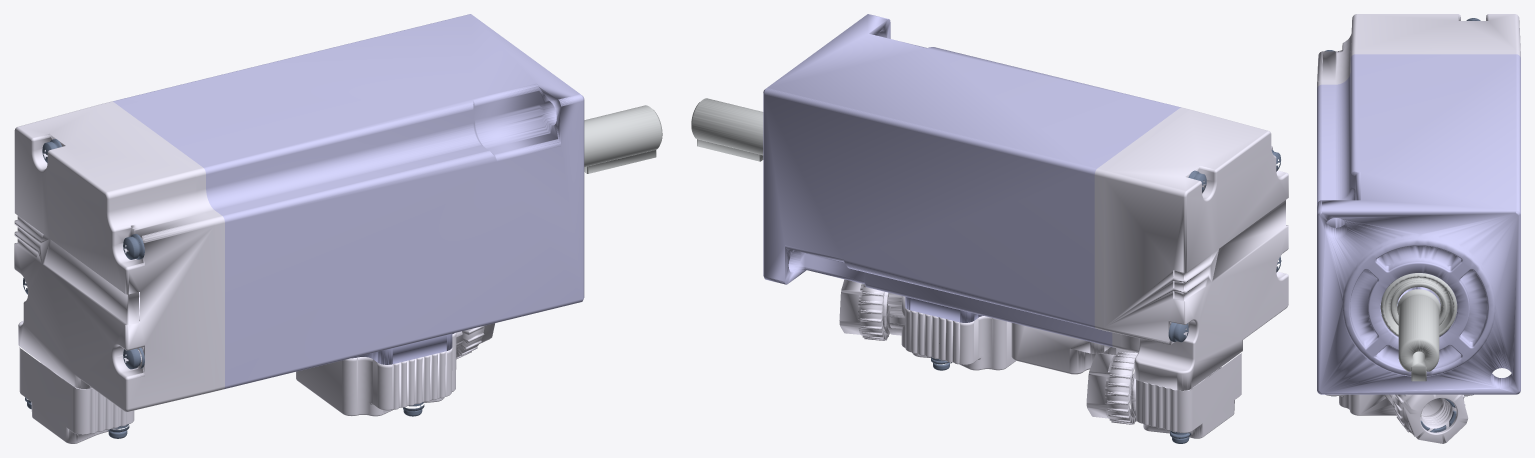
The picture shows the model from 3 angles, left to right: view 1: azimuth 30°, elevation 25°; view 2: azimuth 150°, elevation 25°; view 3: azimuth 270°, elevation 25°; orthographic projection. The views are drawn at different scales.
Parts seen in each view (by area): view 1: PRT0001_shell_000, PRT0001_shell_036, PRT0001_shell_052, PRT0001_shell_094, PRT0001_shell_029, PRT0001_shell_031, PRT0001_shell_007, PRT0001_shell_070; view 2: PRT0001_shell_000, PRT0001_shell_036, PRT0001_shell_052, PRT0001_shell_094, PRT0001_shell_037, PRT0001_shell_029, PRT0001_shell_093, PRT0001_shell_031, PRT0001_shell_070, PRT0001_shell_007; view 3: PRT0001_shell_000, PRT0001_shell_036, PRT0001_shell_029, PRT0001_shell_070, PRT0001_shell_041, PRT0001_shell_052, PRT0001_shell_031, PRT0001_shell_040, PRT0001_shell_077, PRT0001_shell_053, PRT0001_shell_042.
Part boxes in pixels (bbox=[...]): PRT0001_shell_000: bbox=[113, 14, 584, 389]; PRT0001_shell_036: bbox=[14, 103, 214, 411]; PRT0001_shell_052: bbox=[296, 331, 462, 416]; PRT0001_shell_094: bbox=[19, 347, 134, 443]; PRT0001_shell_029: bbox=[584, 105, 662, 167]; PRT0001_shell_031: bbox=[103, 101, 224, 391]; PRT0001_shell_007: bbox=[352, 333, 454, 364]; PRT0001_shell_070: bbox=[456, 323, 494, 359]; PRT0001_shell_000: bbox=[763, 14, 1180, 347]; PRT0001_shell_036: bbox=[1104, 109, 1288, 390]; PRT0001_shell_052: bbox=[882, 292, 1015, 370]; PRT0001_shell_094: bbox=[1130, 353, 1241, 438]; PRT0001_shell_037: bbox=[1011, 323, 1134, 374]; PRT0001_shell_029: bbox=[691, 98, 763, 155]; PRT0001_shell_093: bbox=[1086, 351, 1137, 424]; PRT0001_shell_031: bbox=[1094, 107, 1189, 349]; PRT0001_shell_070: bbox=[839, 279, 889, 340]; PRT0001_shell_007: bbox=[905, 297, 983, 322]; PRT0001_shell_000: bbox=[1317, 54, 1520, 394]; PRT0001_shell_036: bbox=[1317, 14, 1520, 83]; PRT0001_shell_029: bbox=[1397, 289, 1440, 371]; PRT0001_shell_070: bbox=[1393, 394, 1468, 443]; PRT0001_shell_041: bbox=[1380, 273, 1457, 336]; PRT0001_shell_052: bbox=[1325, 394, 1473, 415]; PRT0001_shell_031: bbox=[1317, 50, 1520, 87]; PRT0001_shell_040: bbox=[1390, 282, 1447, 325]; PRT0001_shell_077: bbox=[1420, 398, 1456, 431]; PRT0001_shell_053: bbox=[1421, 398, 1442, 415]; PRT0001_shell_042: bbox=[1411, 367, 1426, 381].
Size of the model in its own units: 0.1174 by 0.0555 by 0.04.
